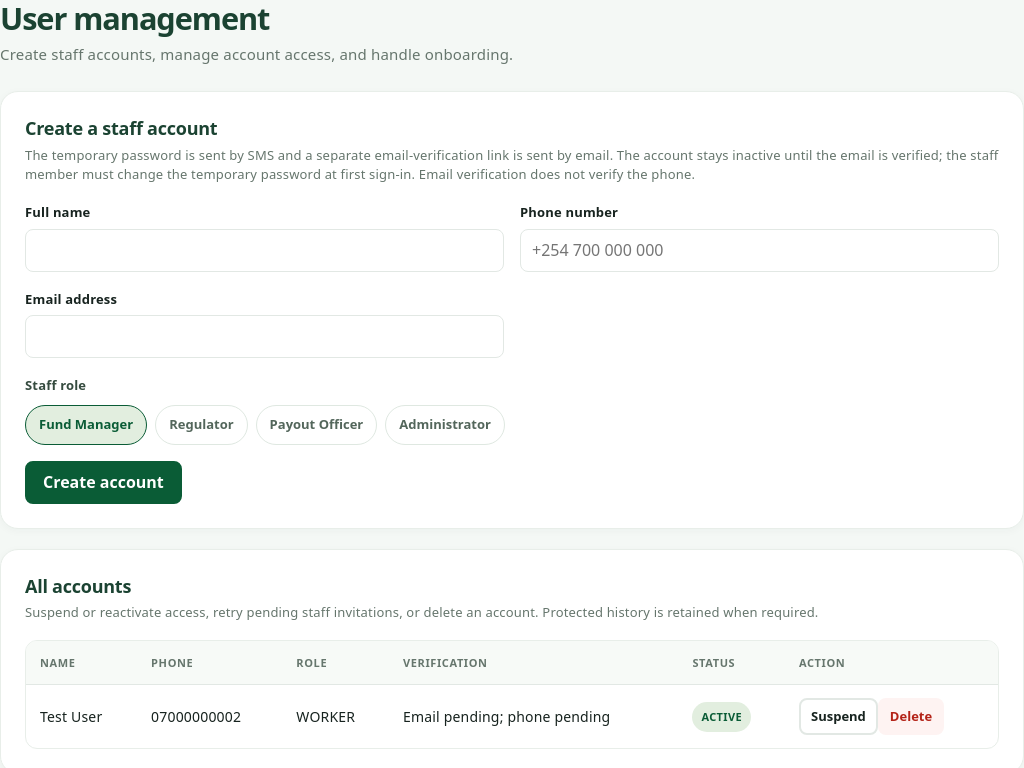
it: UserManagement account actions › requires typing DELETE and refreshes after account deletion
Later steps or results of the test are not shown.
Click the button "Delete" at (911,717), box [878,698,944,735]
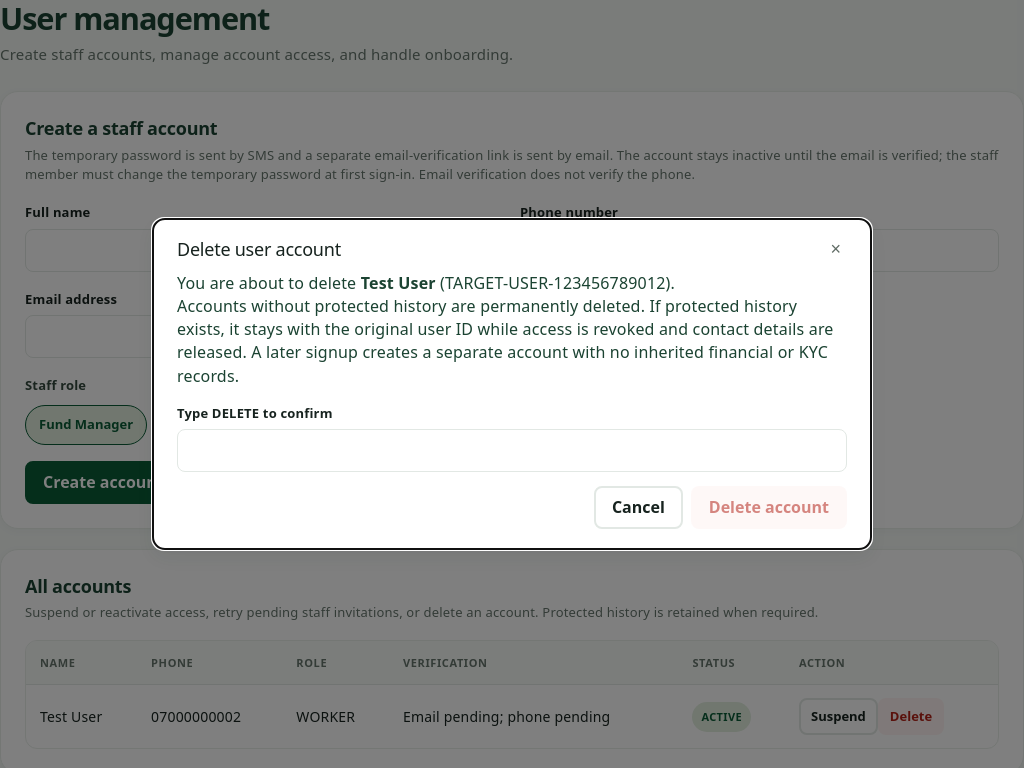
Now the dialog "Delete user account" shows "Test User", box [361,272,436,294]
Now the text "a later signup creates a separate account with no inherited financial or KYC records" is shown, box [177,295,834,387]
Now the button "Delete account" is disabled, box [691,486,847,529]
Type "DELETE" into the field labelled "Type DELETE to confirm" at (512,451), box [177,429,847,472]
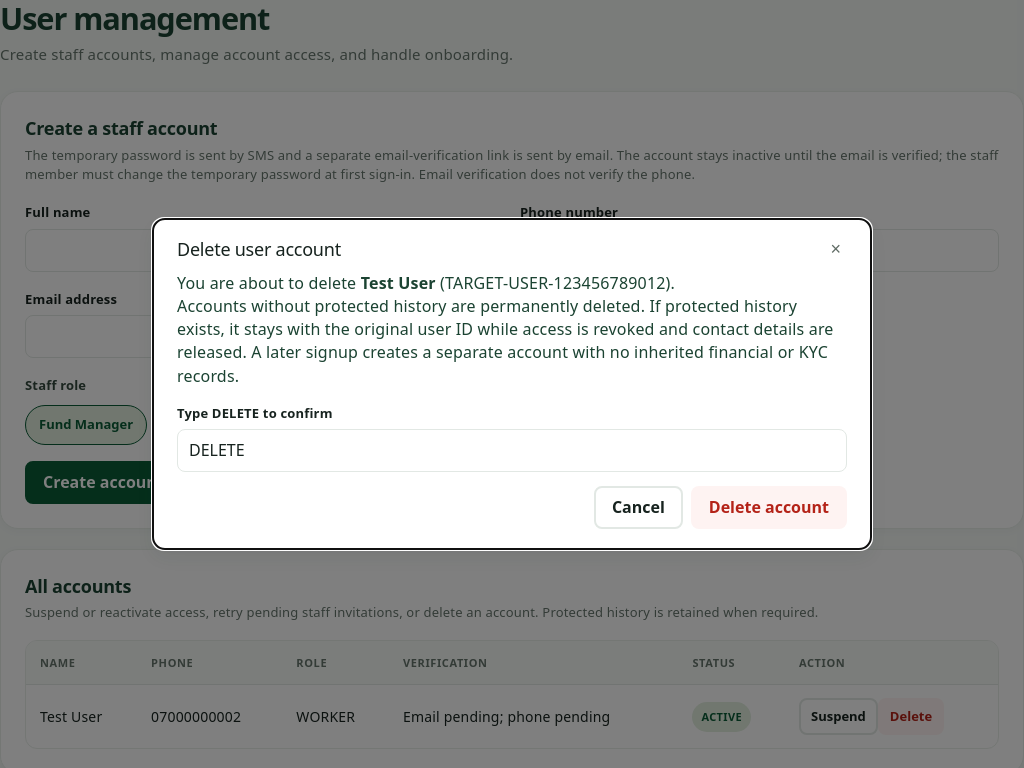
Now the button "Delete account" is enabled, box [691,486,847,529]
